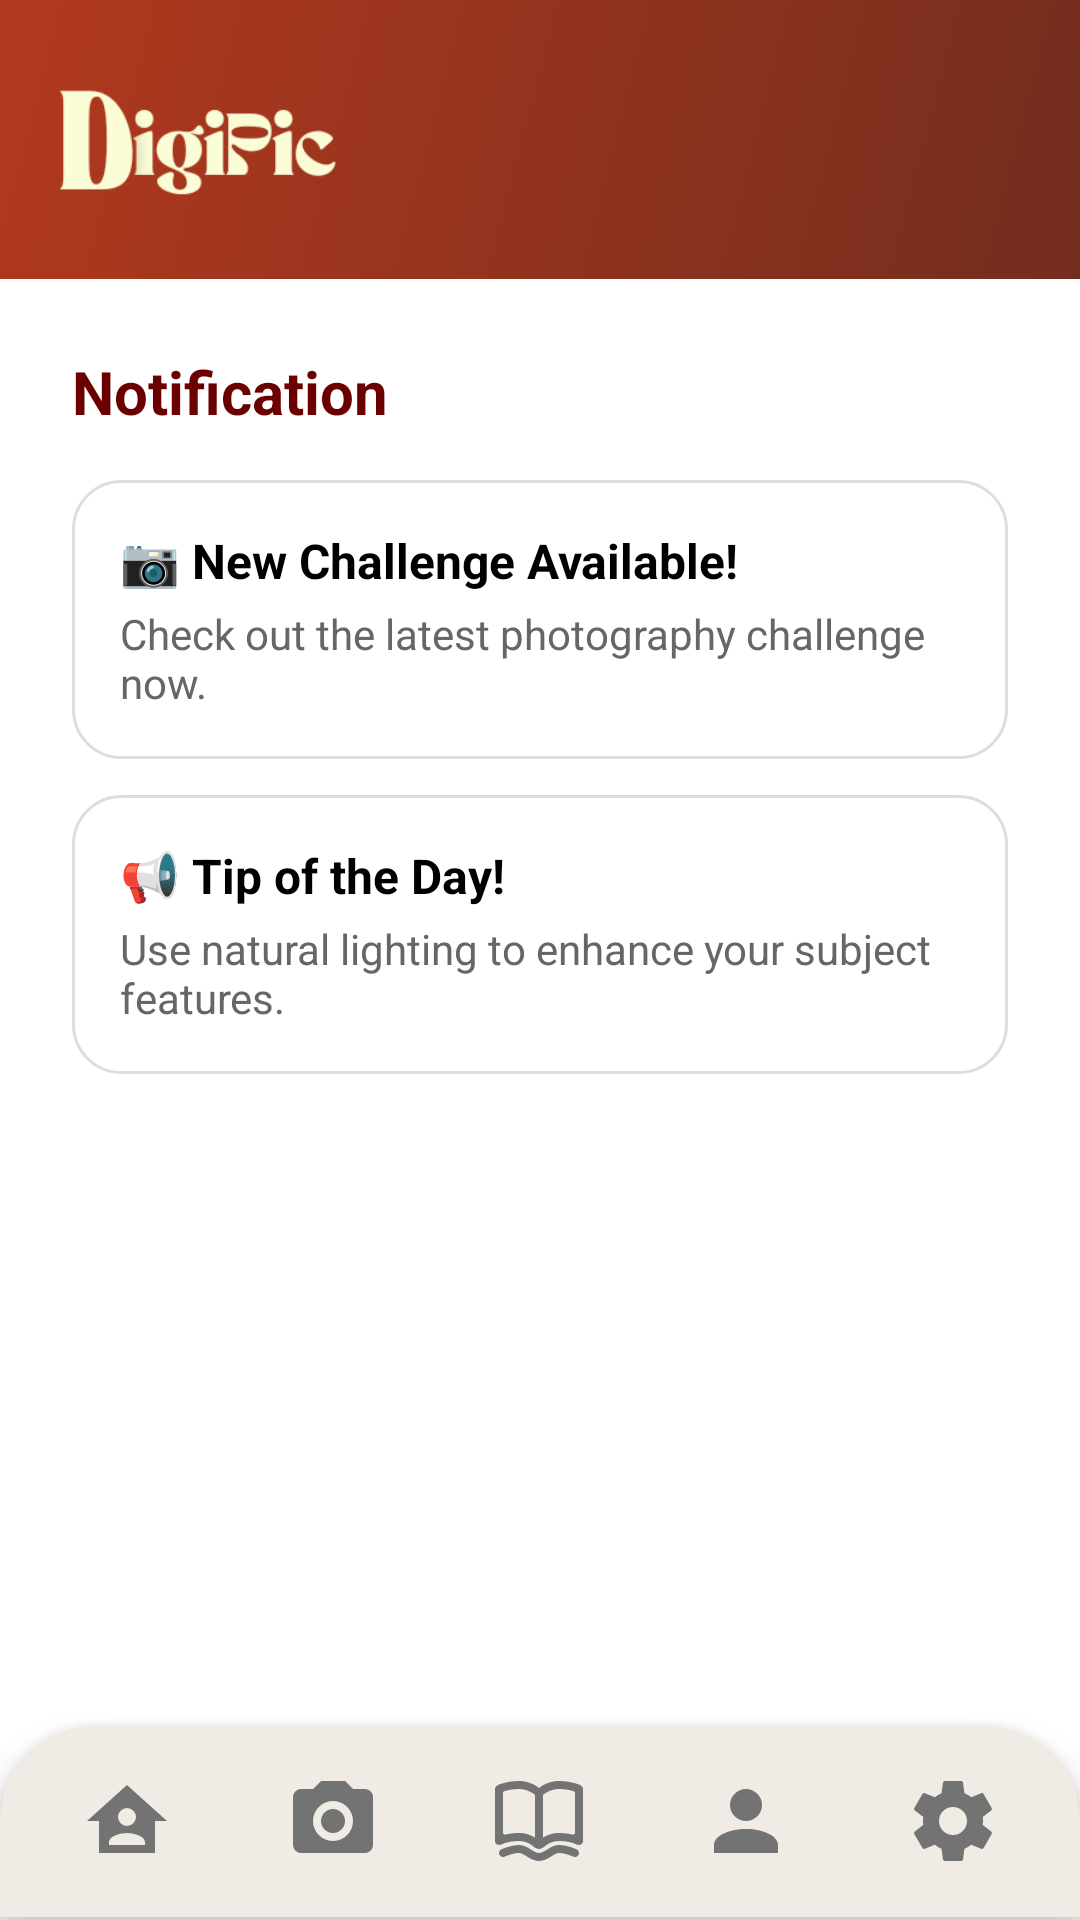

Named icons in this screenshot (1080×1920) and their bounding boxes, BBox(x1, y1, x2, y2):
Home: BBox(87, 1785, 167, 1853)
Profile: BBox(714, 1789, 778, 1853)
Settings: BBox(914, 1781, 992, 1861)
